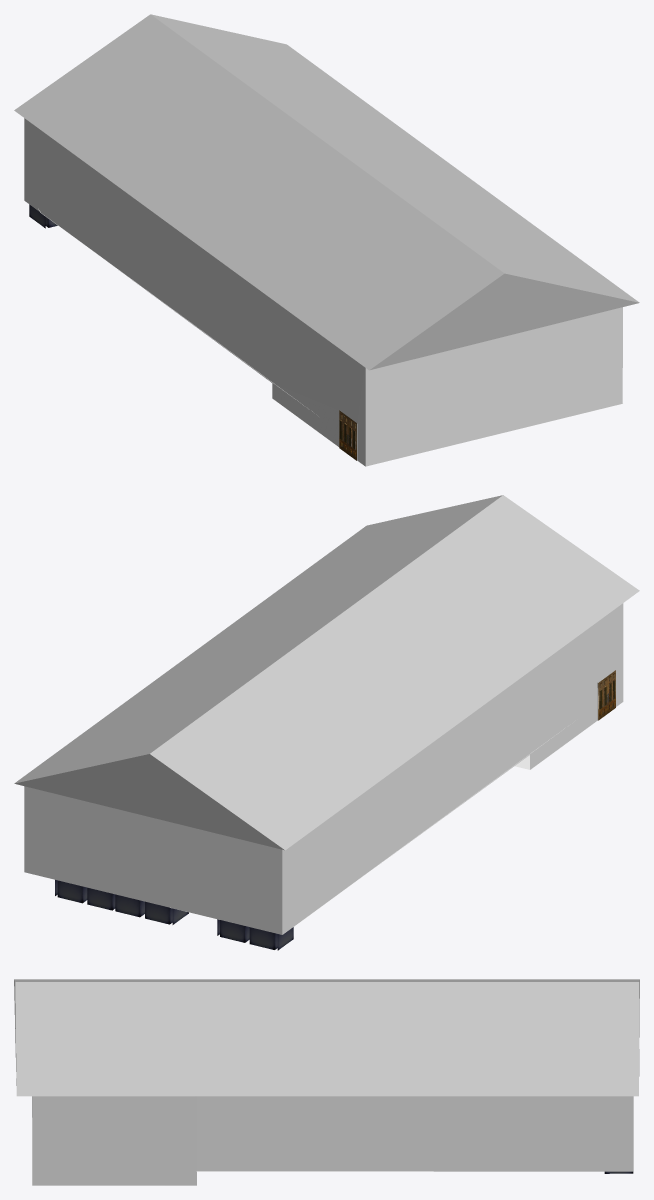
Rendered from DowntownRoom.fbx.
The picture shows the model from 3 angles, top to bottom: view 1: azimuth 30°, elevation 25°; view 2: azimuth 150°, elevation 25°; view 3: azimuth 270°, elevation 25°; orthographic projection. The views are drawn at different scales.
Visible parts, largest first — view 1: Empty_Mesh; view 2: Empty_Mesh; view 3: Empty_Mesh.
Boxes of the visible parts, x1,y1,x2,y2 form: Empty_Mesh: (14,14,639,466); Empty_Mesh: (14,495,639,950); Empty_Mesh: (14,979,639,1185).
Bounding box in the file's own units: 1758 × 1047 × 3972.
